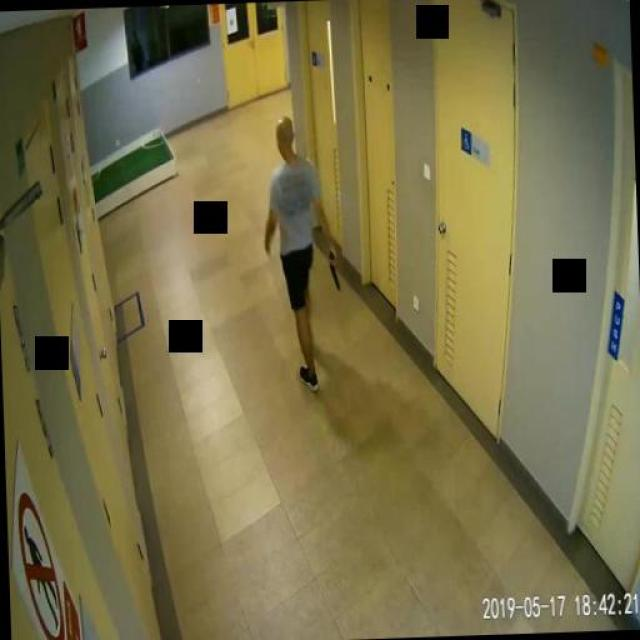gun: (325, 248, 337, 288)
